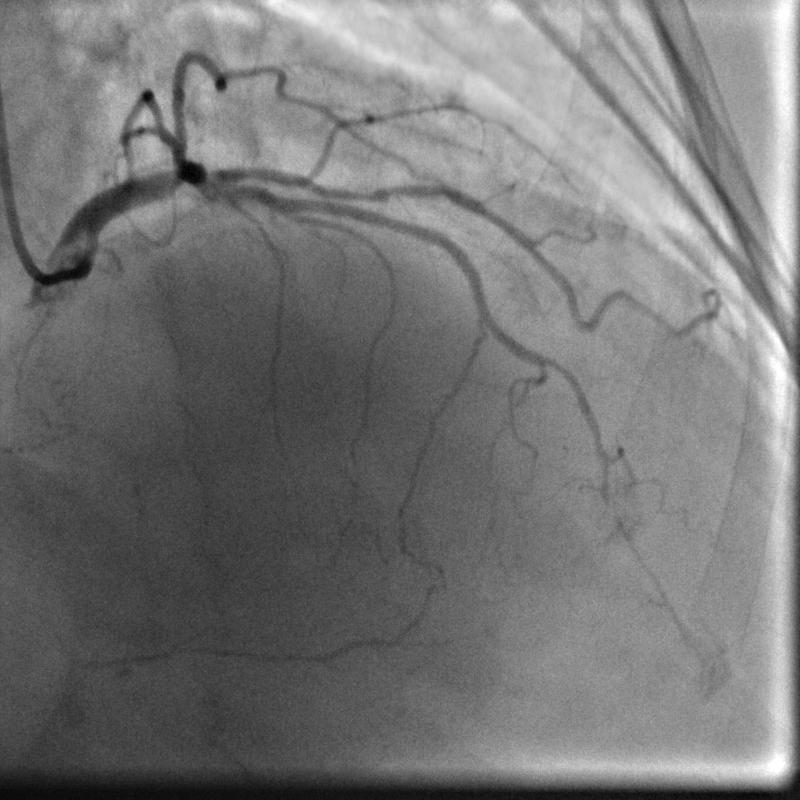Stenosis: (338, 173, 428, 207)
